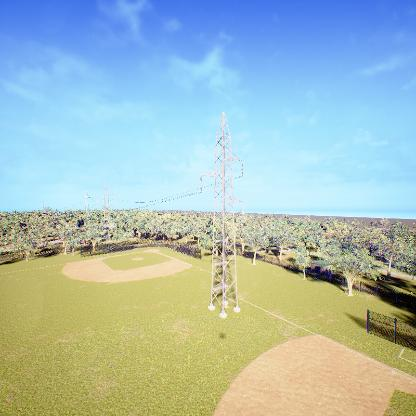tower: (197, 108, 246, 321)
